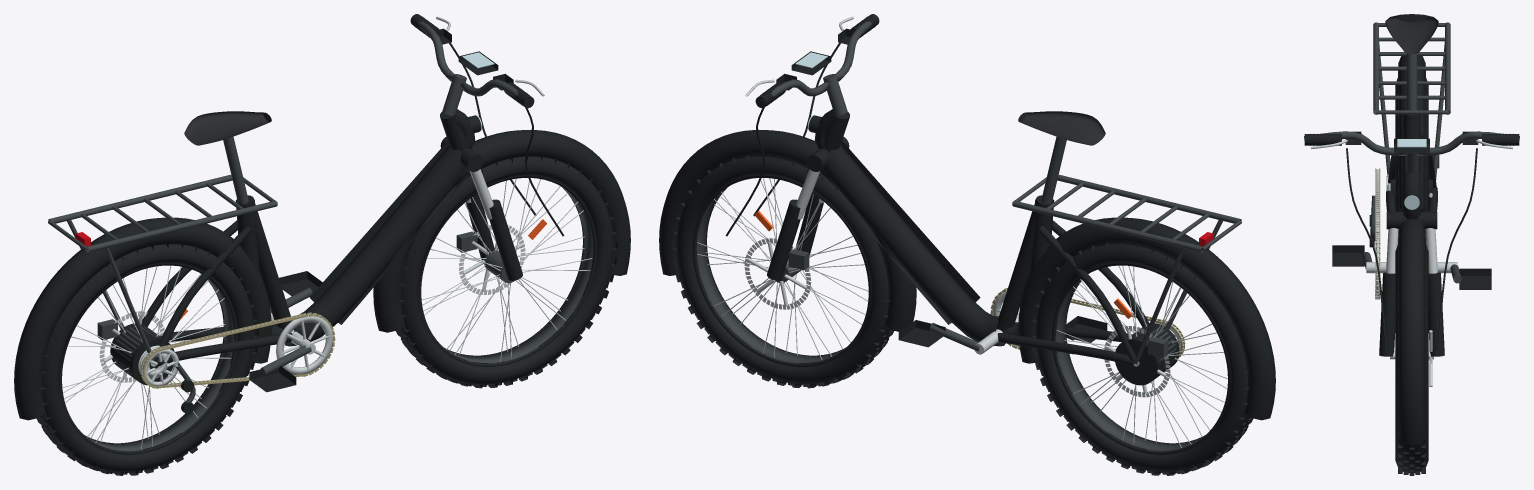
The model's file is rad-power-radrover-6-plus.glb.
3 renders of one model, left to right at view 1: azimuth 30°, elevation 25°; view 2: azimuth 150°, elevation 25°; view 3: azimuth 270°, elevation 25°, orthographic. The views are drawn at different scales.
Parts seen in each view (by area): view 1: Bodywork | black, FrontWheel | rubber, RearWheel | rubber, BatteryMount | black, Chassis | black, Bodywork | graphite, FrontWheel | steel, FrontWheel | graphite, RearWheel | steel, RearWheel | graphite, Drive | steel, Fork | black (+11 smaller); view 2: Bodywork | black, FrontWheel | rubber, RearWheel | rubber, BatteryMount | black, Chassis | black, Bodywork | graphite, FrontWheel | steel, RearWheel | steel, FrontWheel | graphite, RearWheel | graphite, Fork | black, FrontWheel | black (+9 smaller); view 3: Bodywork | black, Bodywork | graphite, Fork | black, FrontWheel | rubber, Chassis | black, Cockpit | rubber, Bodywork | seat, Drive | black, Cockpit | graphite, Fork | steel, Drive | steel, Cockpit | black (+7 smaller).
Boxes of the visible parts, x1,y1,x2,y2 form: Bodywork | black: (14,115,630,420); FrontWheel | rubber: (396,155,617,388); RearWheel | rubber: (36,242,258,475); BatteryMount | black: (285,141,470,346); Chassis | black: (141,109,475,366); Bodywork | graphite: (48,174,277,360); FrontWheel | steel: (422,178,592,361); FrontWheel | graphite: (445,187,593,363); RearWheel | steel: (62,265,231,449); RearWheel | graphite: (85,279,234,451); Drive | steel: (138,313,333,386); Fork | black: (440,136,522,280); Bodywork | black: (659,115,1275,420); FrontWheel | rubber: (672,155,893,388); RearWheel | rubber: (1031,242,1253,475); BatteryMount | black: (819,141,1005,346); Chassis | black: (814,109,1149,366); Bodywork | graphite: (1012,174,1241,364); FrontWheel | steel: (697,178,868,360); RearWheel | steel: (1056,265,1227,447); FrontWheel | graphite: (696,187,844,363); RearWheel | graphite: (1055,279,1204,451); Fork | black: (767,136,849,280); FrontWheel | black: (692,175,870,366); Bodywork | black: (1398,56,1425,444); Bodywork | graphite: (1373,22,1450,179); Fork | black: (1379,211,1444,356); FrontWheel | rubber: (1395,238,1428,475); Chassis | black: (1386,114,1437,219); Cockpit | rubber: (1304,134,1519,349); Bodywork | seat: (1385,14,1438,54); Drive | black: (1332,215,1491,289); Cockpit | graphite: (1304,131,1519,172); Fork | steel: (1386,228,1437,273); Drive | steel: (1366,169,1457,299); Cockpit | black: (1310,131,1513,153).
Bounding box in the file's own units: 2.07 × 1.07 × 0.6634.
